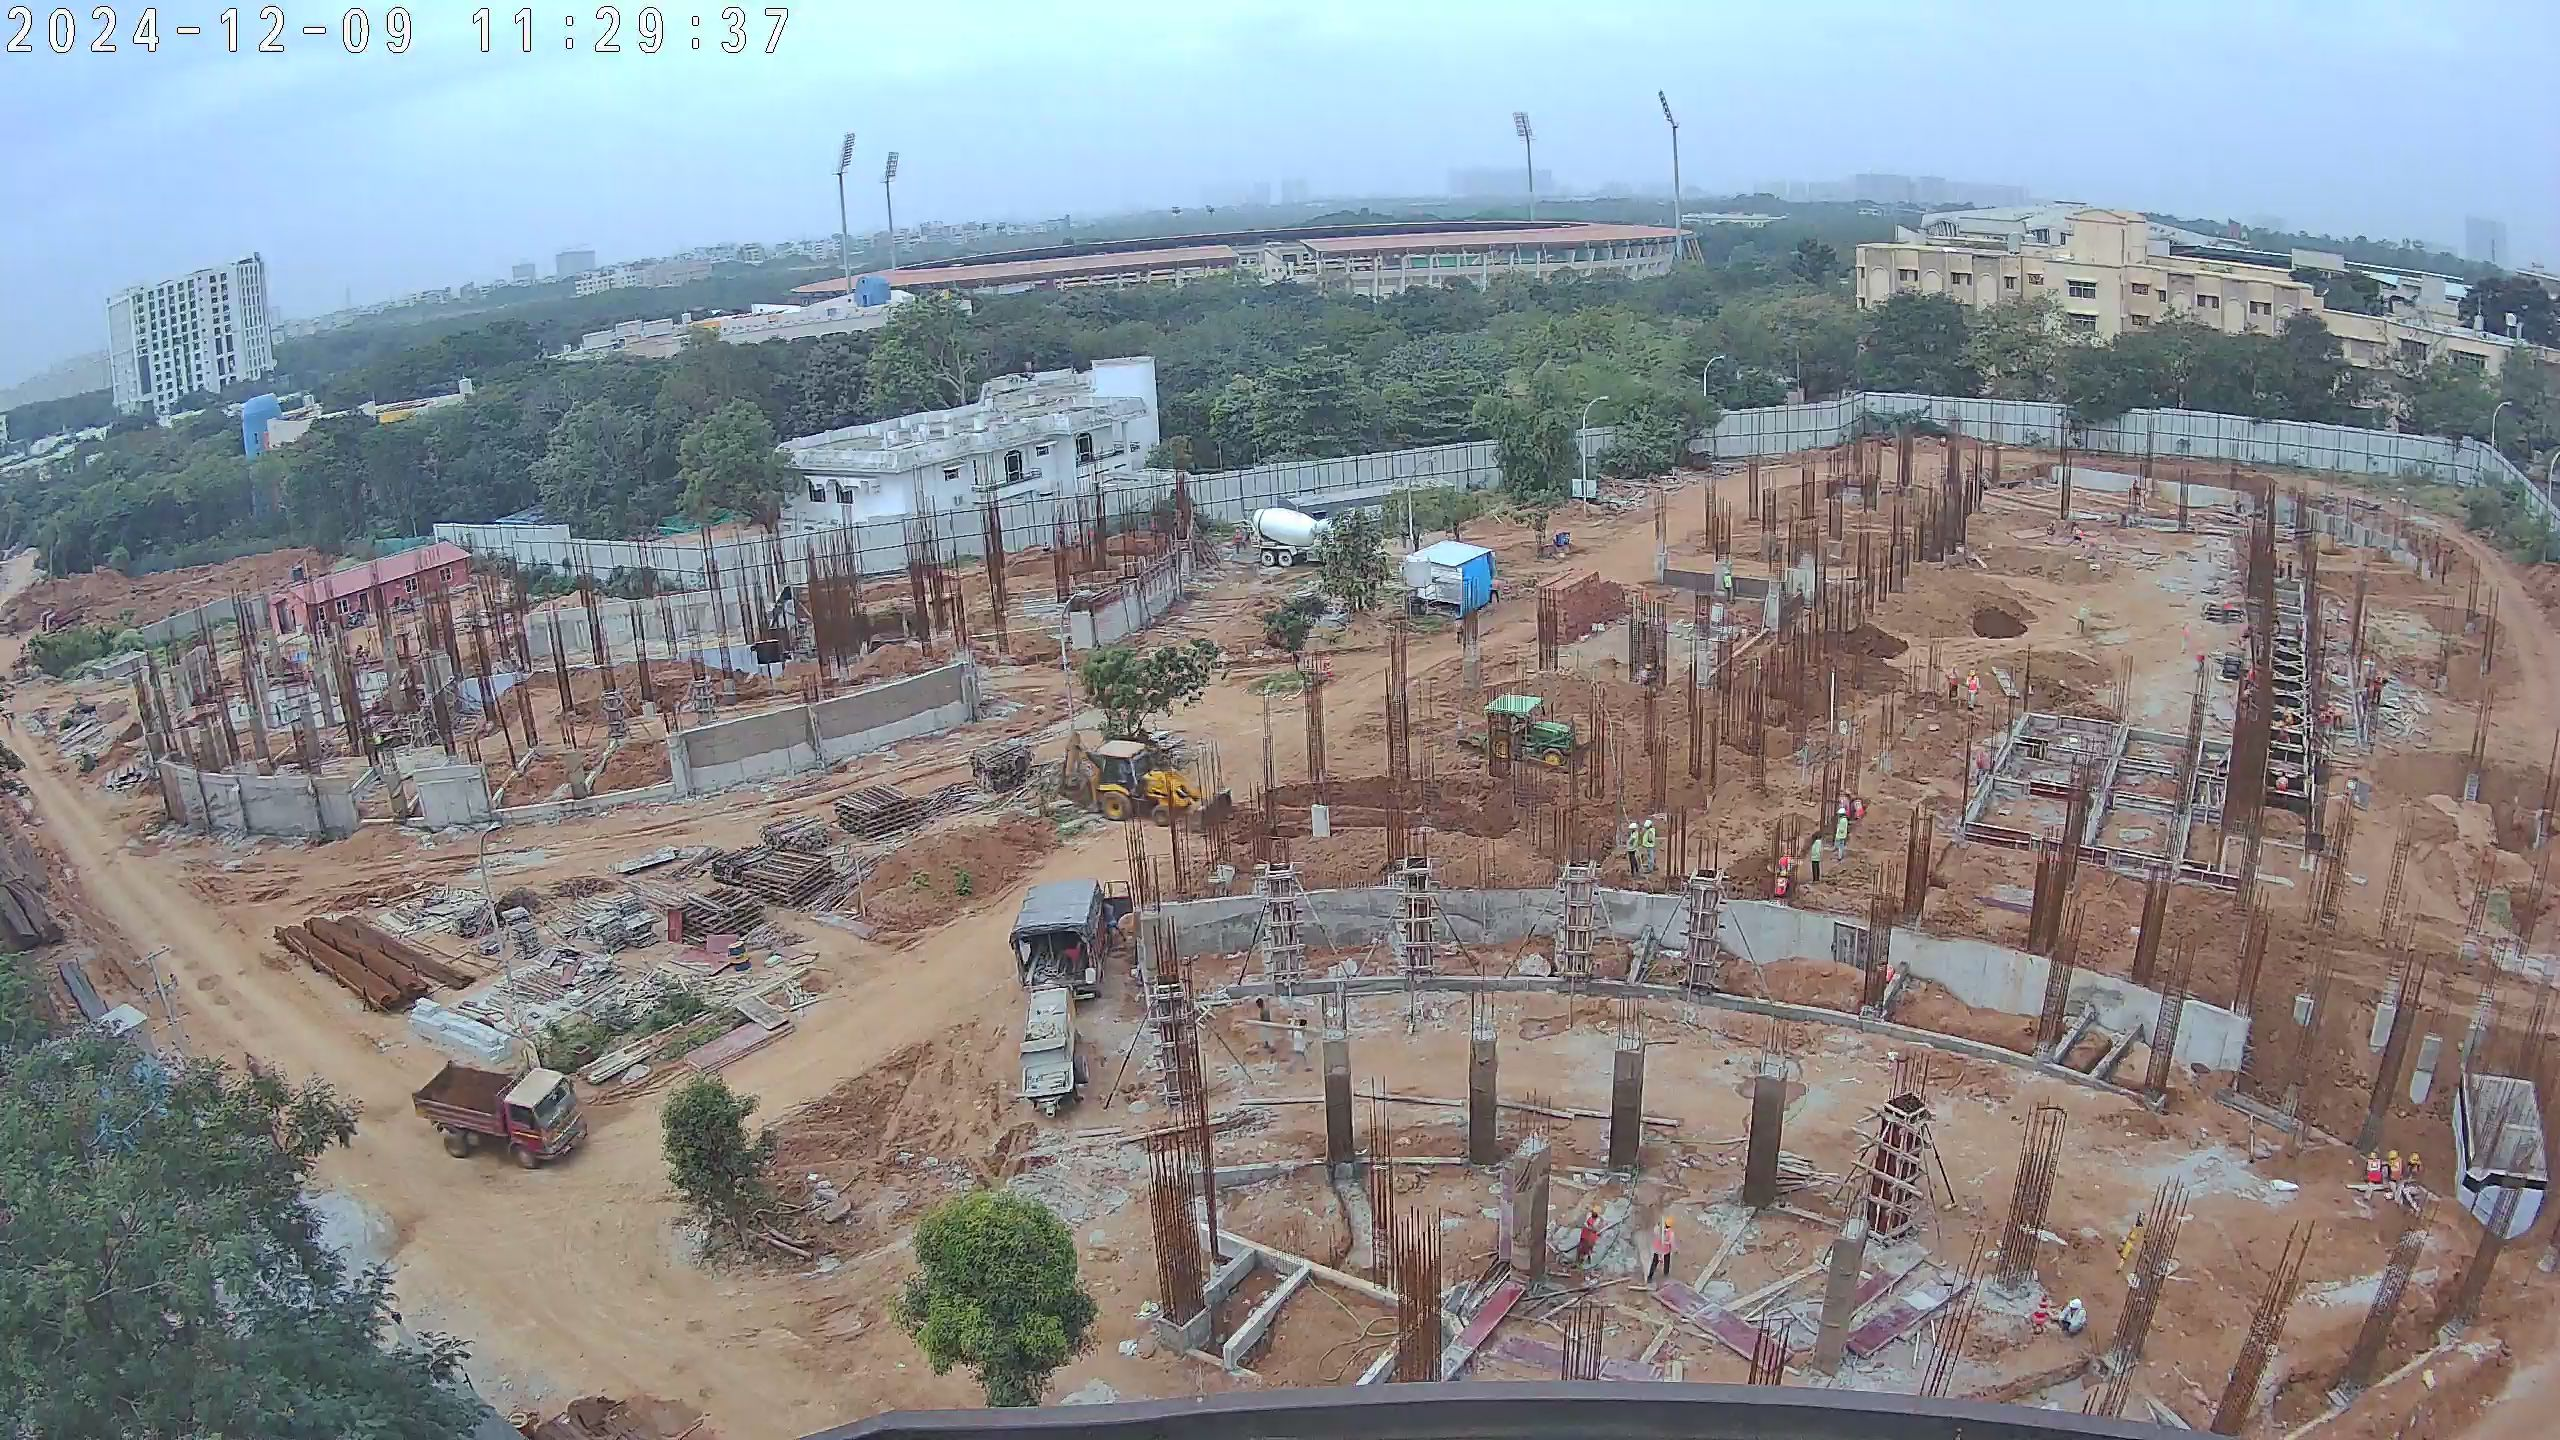bulldozer: (1060, 729, 1216, 829), (1452, 686, 1580, 771)
truck: (1010, 883, 1133, 1116), (406, 1056, 591, 1172), (1245, 502, 1341, 574)
worker: (1575, 1206, 1614, 1283), (1250, 989, 1279, 1060), (1649, 1216, 1679, 1281), (1287, 1011, 1315, 1079), (2054, 1291, 2090, 1339), (1833, 804, 1858, 868), (1622, 819, 1643, 883), (1639, 816, 1661, 876), (1768, 867, 1798, 910), (2362, 1145, 2387, 1196), (1941, 658, 1964, 713), (1959, 668, 1985, 713), (2384, 1148, 2407, 1198), (1806, 833, 1826, 887), (2403, 1151, 2424, 1200), (2322, 701, 2347, 733), (2271, 708, 2301, 734), (2067, 519, 2088, 549), (2074, 605, 2092, 639), (2244, 659, 2260, 695), (2177, 617, 2191, 657), (2370, 673, 2383, 709), (2276, 766, 2289, 797)
